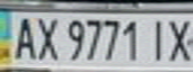1: (121, 16, 142, 62)
7: (81, 16, 106, 61), (103, 16, 124, 61)
9: (63, 15, 87, 61)
A: (6, 12, 39, 61)
I: (142, 16, 172, 62)
X: (163, 15, 193, 63), (33, 12, 60, 62)
